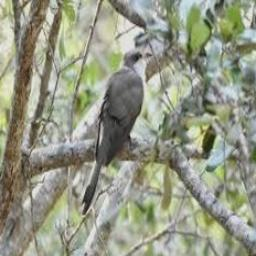Cuckoo: (82, 49, 151, 215)
